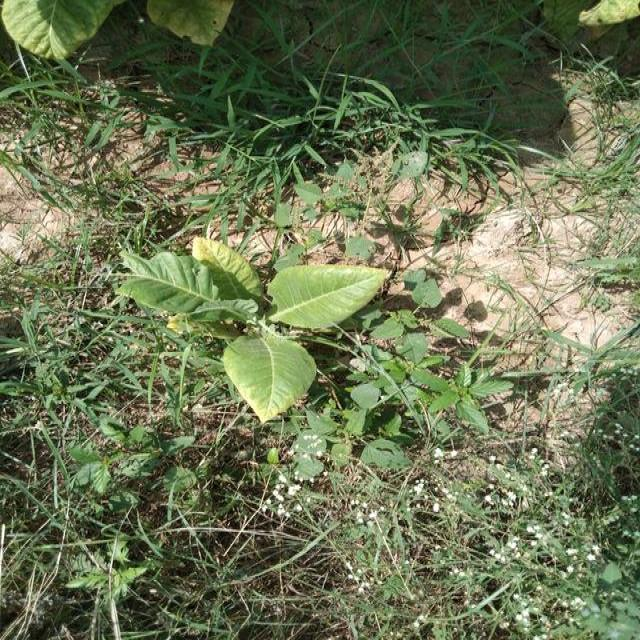crop: (136, 244, 377, 416), (5, 4, 121, 58), (148, 5, 237, 43)
